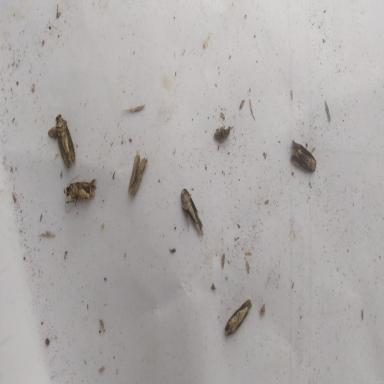pbw: (52, 107, 76, 170), (223, 297, 255, 336), (63, 175, 101, 206), (180, 185, 203, 234), (288, 136, 318, 172), (128, 154, 146, 196)
